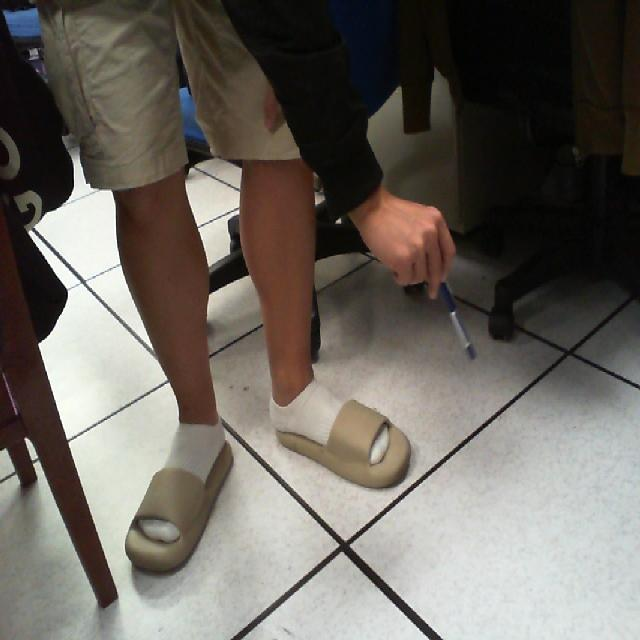Pen: (424, 266, 488, 390)
